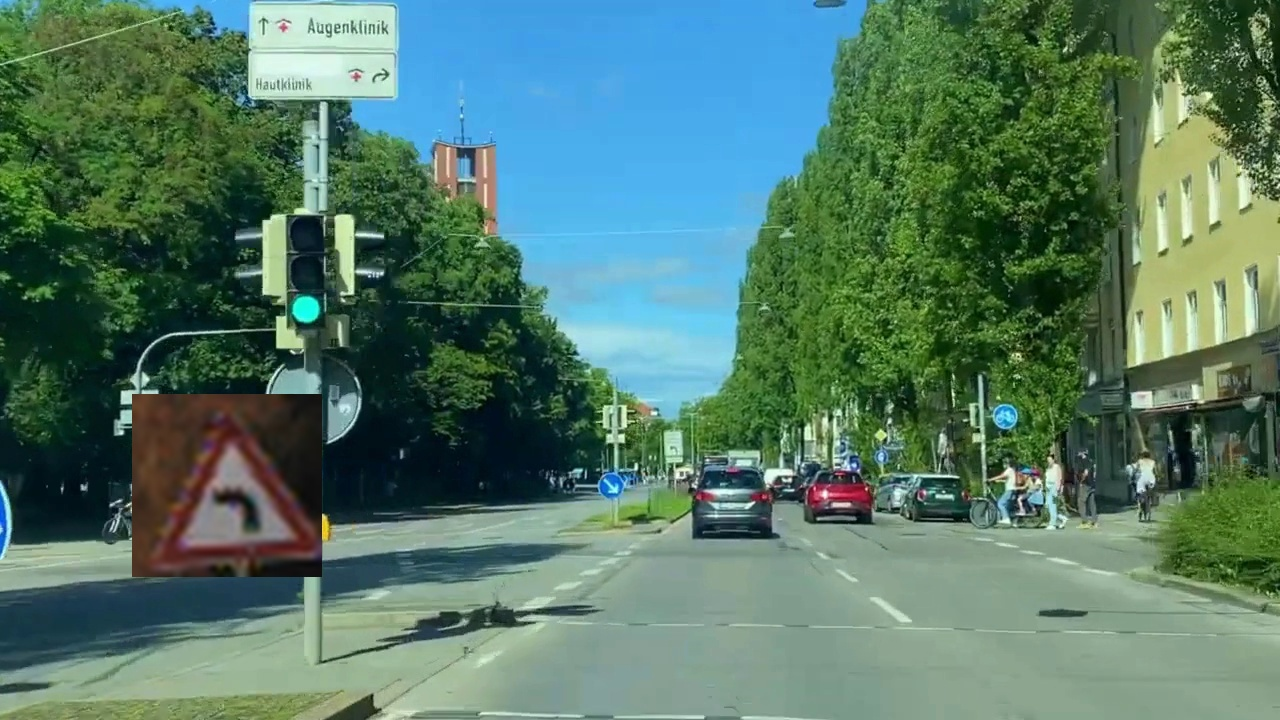Curve left: (132, 394, 322, 577)
